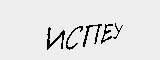Е: (101, 18, 112, 44)
И: (43, 26, 66, 51)
П: (81, 20, 100, 46)
С: (64, 22, 81, 50)
У: (112, 19, 124, 41)
